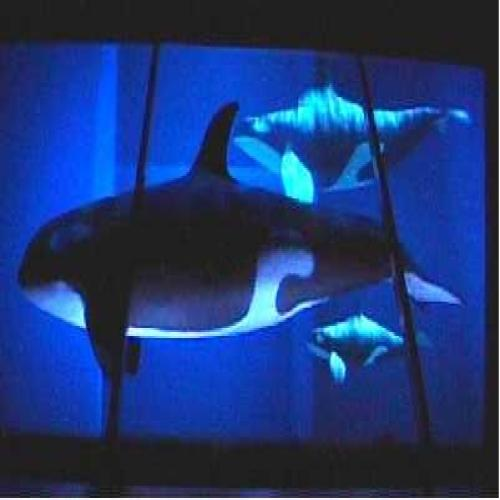killer_whale-endangered: (10, 144, 415, 358), (225, 65, 466, 208)
